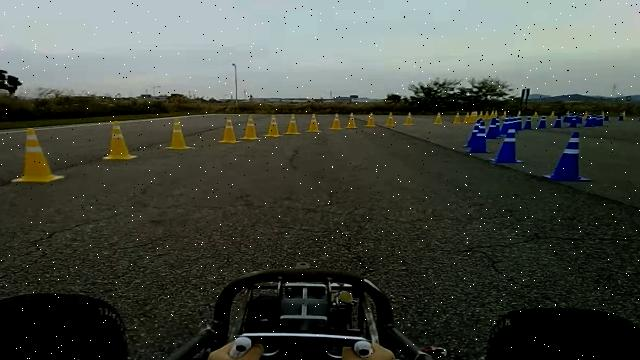blue cone: (543, 131, 592, 182), (489, 128, 524, 164), (468, 120, 487, 154)
yellow cone: (11, 126, 65, 182), (103, 120, 138, 160), (166, 118, 194, 150), (218, 118, 242, 143), (240, 115, 262, 140), (264, 115, 283, 137), (284, 114, 301, 134), (306, 113, 322, 132), (328, 112, 344, 130), (346, 112, 358, 128), (365, 112, 377, 127), (403, 111, 415, 125), (386, 111, 396, 126)
